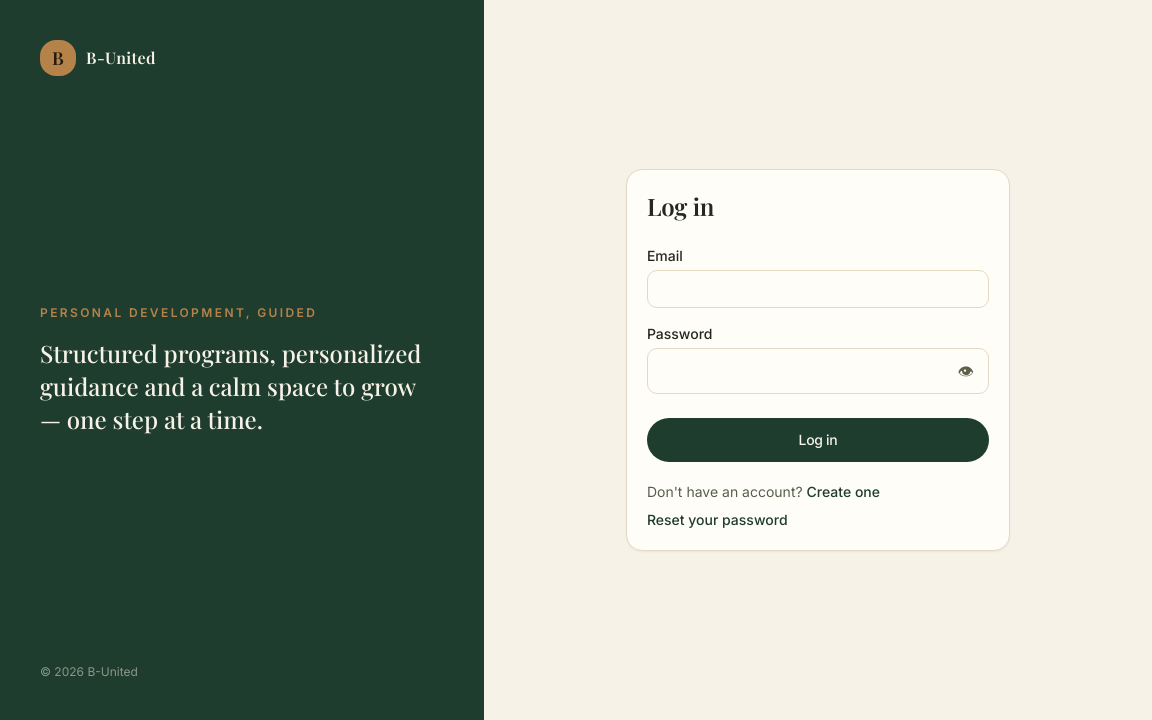
Test: LoginPage › shows field validation errors instead of submitting an empty form
What coordinates should you click on to do the following:
click the button "Log in"
I would click on:
 (818, 440)
Its box is x1=647 y1=418 x2=989 y2=462.
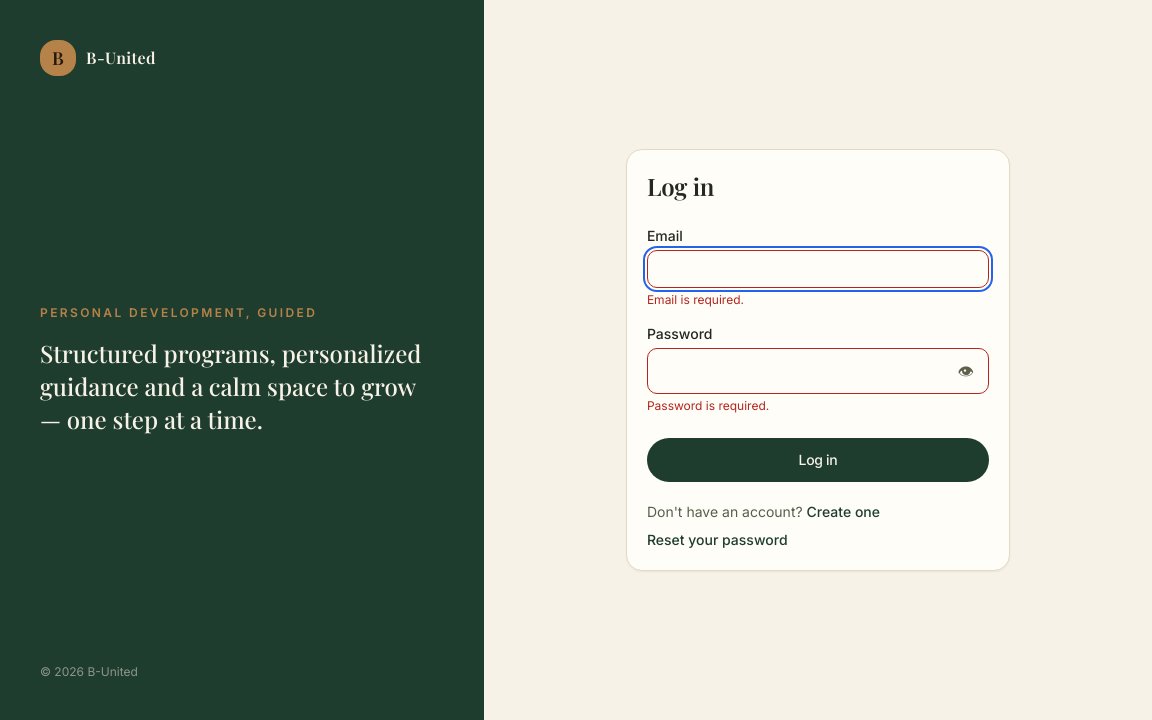
Check: the text "Email is required." is shown, box x1=647 y1=292 x2=744 y2=307
